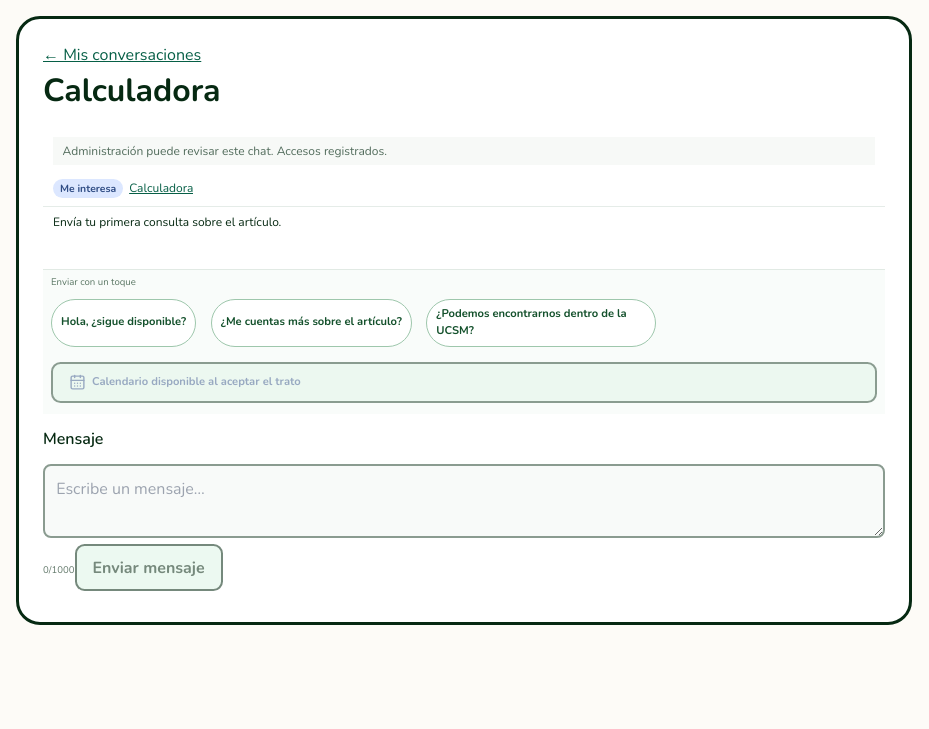
Test case: retains text bubbles when sending one fails
The image size is (929, 729).
Expected: the heading "Calculadora" is shown, [43,69,221,112]
Click the button "Hola, ¿sigue disponible?".
click(124, 323)  # box [51,299,196,347]
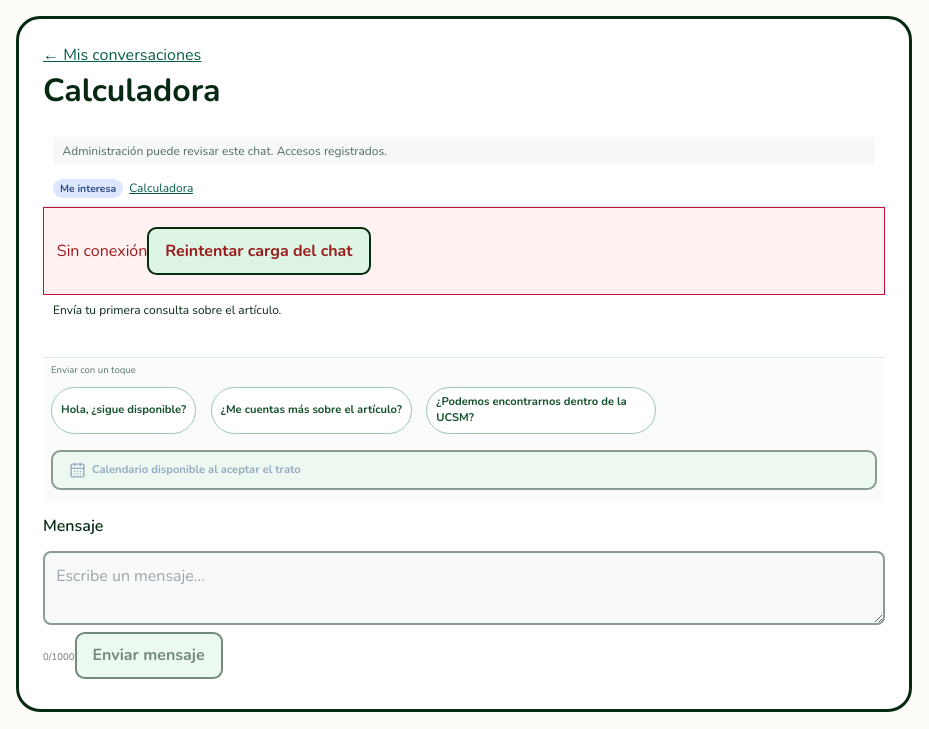
Expected: the button "Hola, ¿sigue disponible?" is enabled, [51,386,196,434]
Expected: the text "Sin conexión" is shown, [57,240,147,262]
